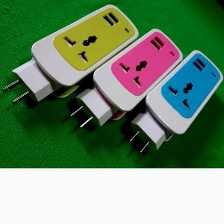three_eye_plug: (0, 1, 144, 110), (64, 25, 185, 131), (123, 46, 223, 158)
